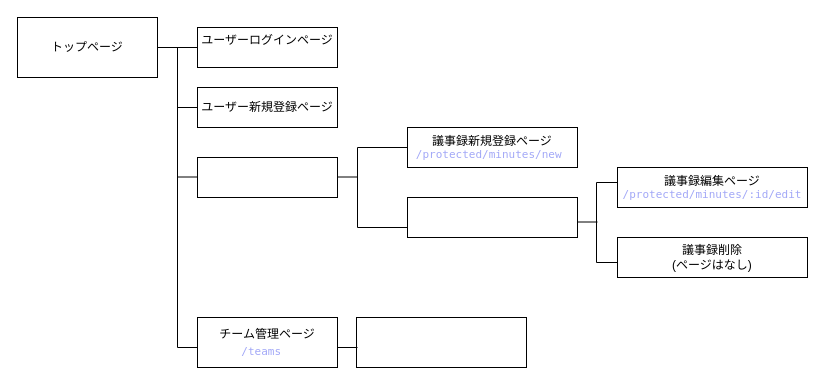
Image size: 825x385. Some labels were removed from this diagram. The shapes that lost their labels are listed below. From the top down, each one's box as (x1, y1, x2, y2) in pixels, then its label:
(196, 156, 338, 198): 議事録 一覧ページ /protected/minutes
(406, 196, 578, 238): 議事録詳細ページ /protected/minutes/:id
(356, 316, 526, 368): チーム招待ページ /invite?token=xxx
